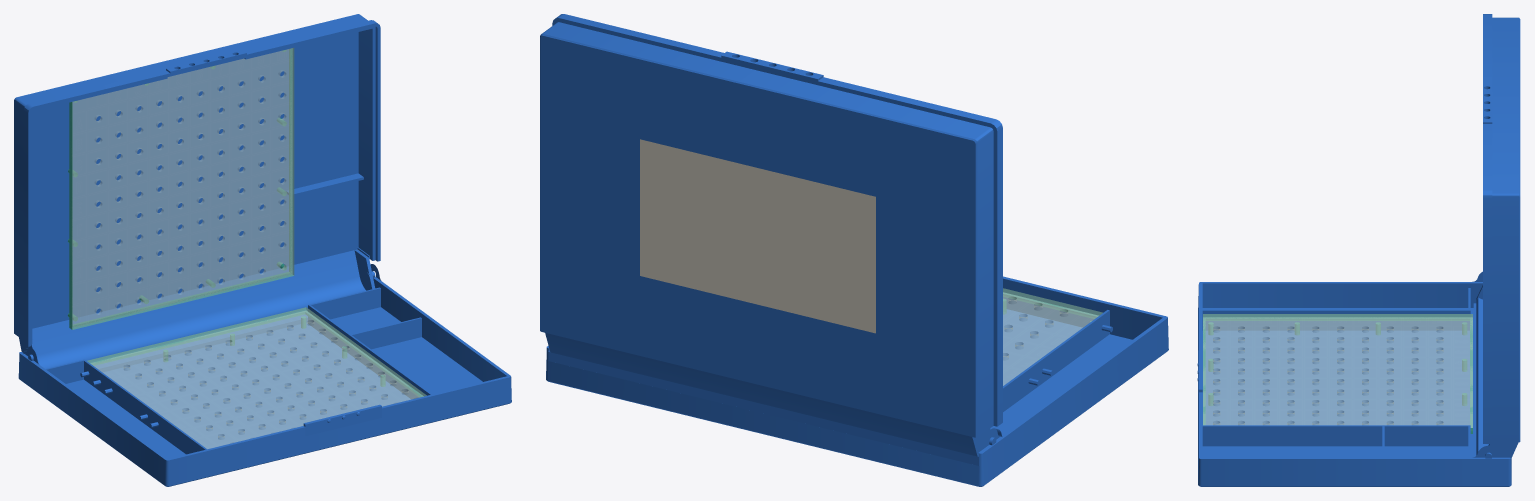
File: bs_unit_blue.glb
3 renders of one model, left to right at view 1: azimuth 30°, elevation 25°; view 2: azimuth 150°, elevation 25°; view 3: azimuth 270°, elevation 25°, orthographic. The views are drawn at different scales.
Parts seen in each view (by area): view 1: lid_shell, target_grid, tray_shell, ocean_grid, lid_hinge_strip, tray_inner, sunk_tab, lid_inner; view 2: lid_shell, lid_label_slot, tray_shell, lid_hinge_strip, ocean_grid, tray_inner, sunk_tab; view 3: tray_shell, ocean_grid, lid_shell, tray_inner, lid_hinge_strip, sunk_tab.
Part boxes in pixels (x1,y1,x2,y2): lid_shell: (14, 14, 380, 346); target_grid: (68, 48, 294, 329); tray_shell: (18, 277, 511, 486); ocean_grid: (87, 307, 426, 448); lid_hinge_strip: (19, 249, 375, 368); tray_inner: (45, 287, 431, 454); sunk_tab: (166, 50, 246, 76); lid_inner: (286, 173, 363, 196); lid_shell: (540, 14, 1002, 437); lid_label_slot: (640, 139, 875, 333); tray_shell: (546, 276, 1168, 486); lid_hinge_strip: (545, 333, 990, 456); ocean_grid: (1003, 288, 1102, 385); tray_inner: (1003, 310, 1112, 411); sunk_tab: (721, 51, 823, 85); tray_shell: (1198, 282, 1511, 486); ocean_grid: (1203, 314, 1472, 433); lid_shell: (1483, 14, 1520, 443); tray_inner: (1197, 288, 1476, 457); lid_hinge_strip: (1476, 285, 1518, 458); sunk_tab: (1483, 83, 1492, 123).
Size of the model in its own units: 0.23 by 0.177 by 0.1736.
